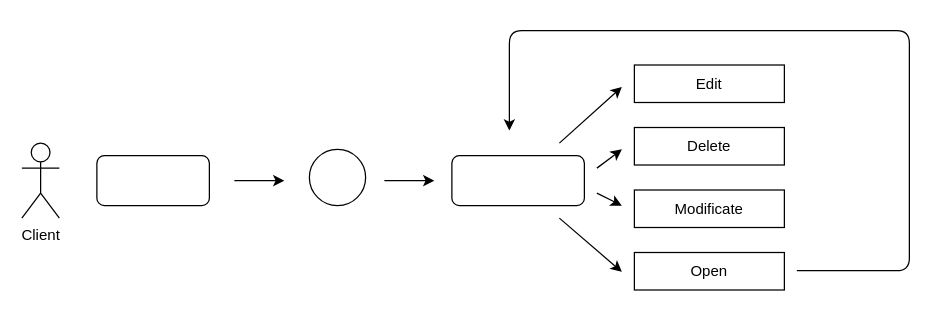
Image size: 941x313. Some labels were removed from this diagram. Each missing label, with the box of its shape:
DIRECTORY: (451, 154, 584, 206)
INIT: (96, 154, 209, 206)
